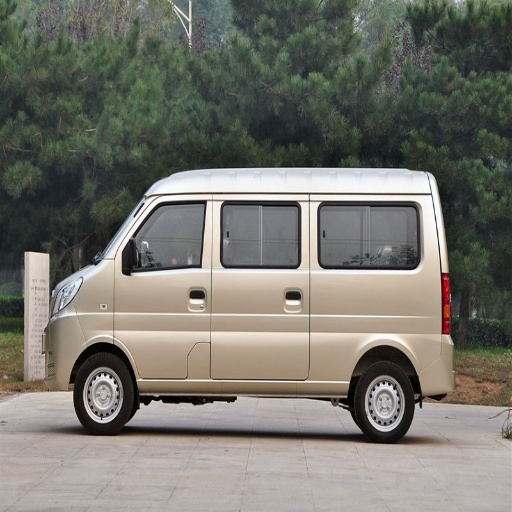back_left_door: (211, 197, 299, 376), (339, 199, 421, 263)
front_left_door: (117, 197, 219, 379), (260, 341, 306, 376)
trunk: (295, 280, 447, 394)
